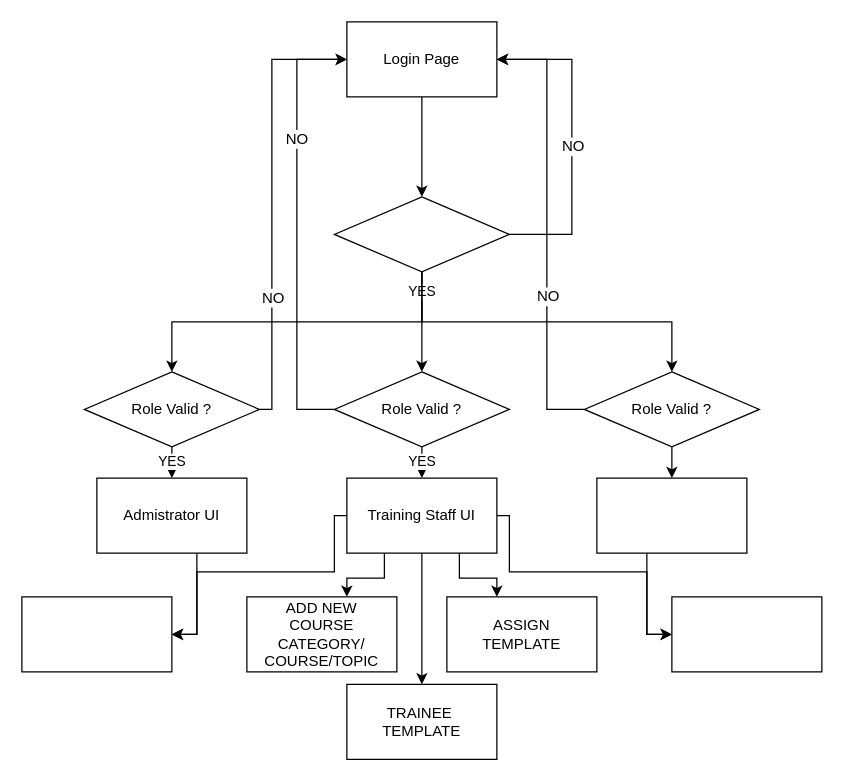
This 844x781 diagram has some shape labels left out. Each missing label, with the centre of its shape:
"ACCOUNT TEMPLATE" goes at (96,634).
"Account Valid ?" goes at (421,234).
"INFORMATION TEMPLATE" goes at (746,634).
"Trainer UI" goes at (671,515).
